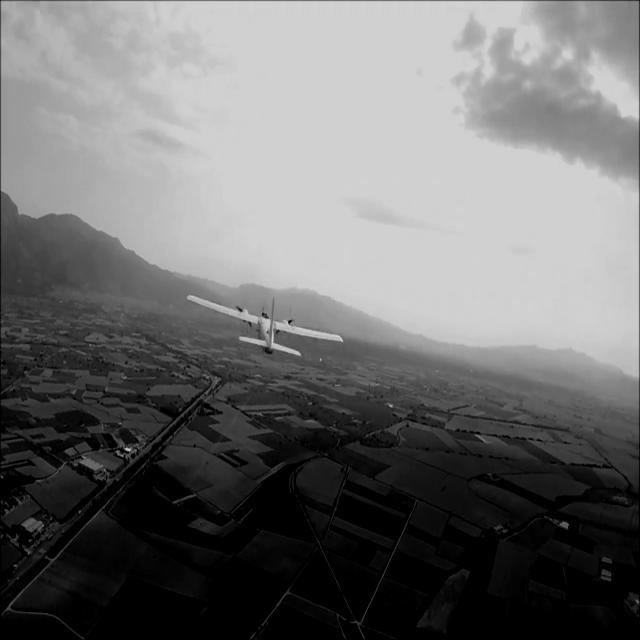iha: (180, 324, 340, 327)
